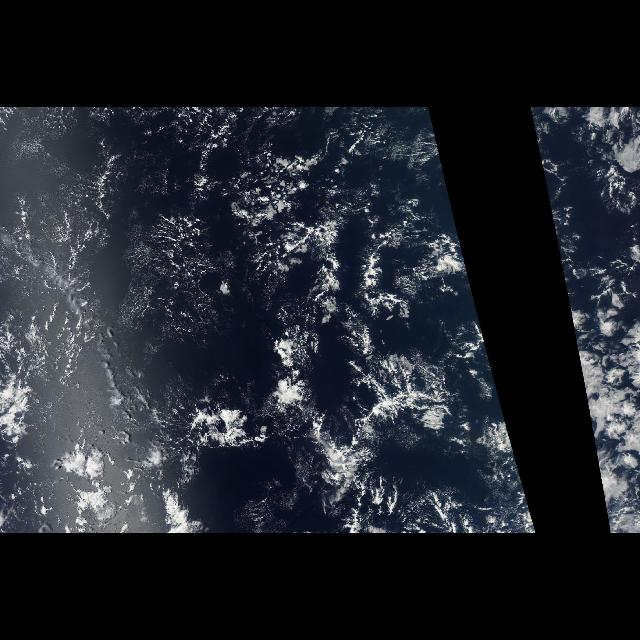Sugar: (122, 203, 234, 365)
